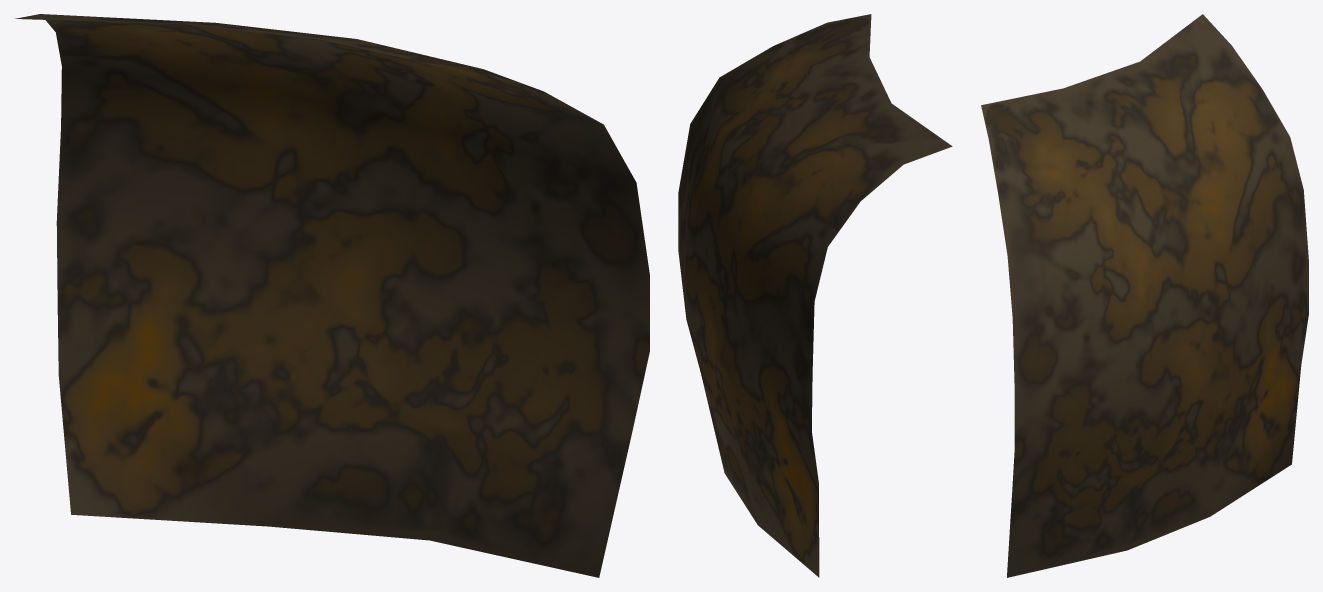
Rendered from Tunnel_1.fbx.
The picture shows the model from 3 angles, left to right: view 1: azimuth 30°, elevation 25°; view 2: azimuth 150°, elevation 25°; view 3: azimuth 270°, elevation 25°; orthographic projection. The views are drawn at different scales.
Visible parts, largest first — view 1: CaveTunnel_1__9_.001; view 2: CaveTunnel_1__9_.001; view 3: CaveTunnel_1__9_.001.
Part boxes in pixels (<box>): CaveTunnel_1__9_.001: <box>15,14,649,577</box>; CaveTunnel_1__9_.001: <box>678,14,952,577</box>; CaveTunnel_1__9_.001: <box>981,14,1308,577</box>.
Bounding box in the file's own units: 2067 × 2258 × 1624.
